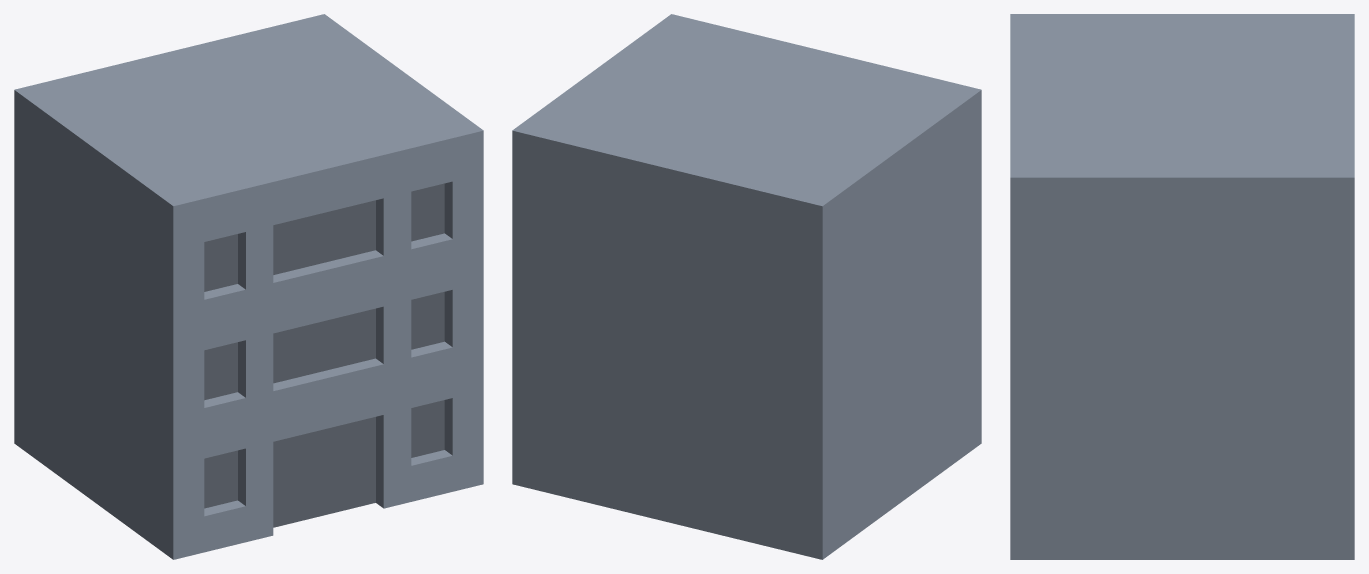
File: binakapanacak2.gltf
3 views of the same model, side by side, from view 1: azimuth 30°, elevation 25°; view 2: azimuth 150°, elevation 25°; view 3: azimuth 270°, elevation 25° (orthographic). The views are drawn at different scales.
Parts seen in each view (by area): view 1: Building_024.010, Building_024.014, Building_024.015; view 2: Building_024.010; view 3: Building_024.010.
Boxes of the visible parts, x1,y1,x2,y2 form: Building_024.010: (14, 14, 483, 559); Building_024.014: (204, 183, 444, 508); Building_024.015: (273, 417, 375, 527); Building_024.010: (512, 14, 981, 559); Building_024.010: (1010, 14, 1354, 559).
Size of the model in its own units: 0.0489 by 0.0533 by 0.0435.
